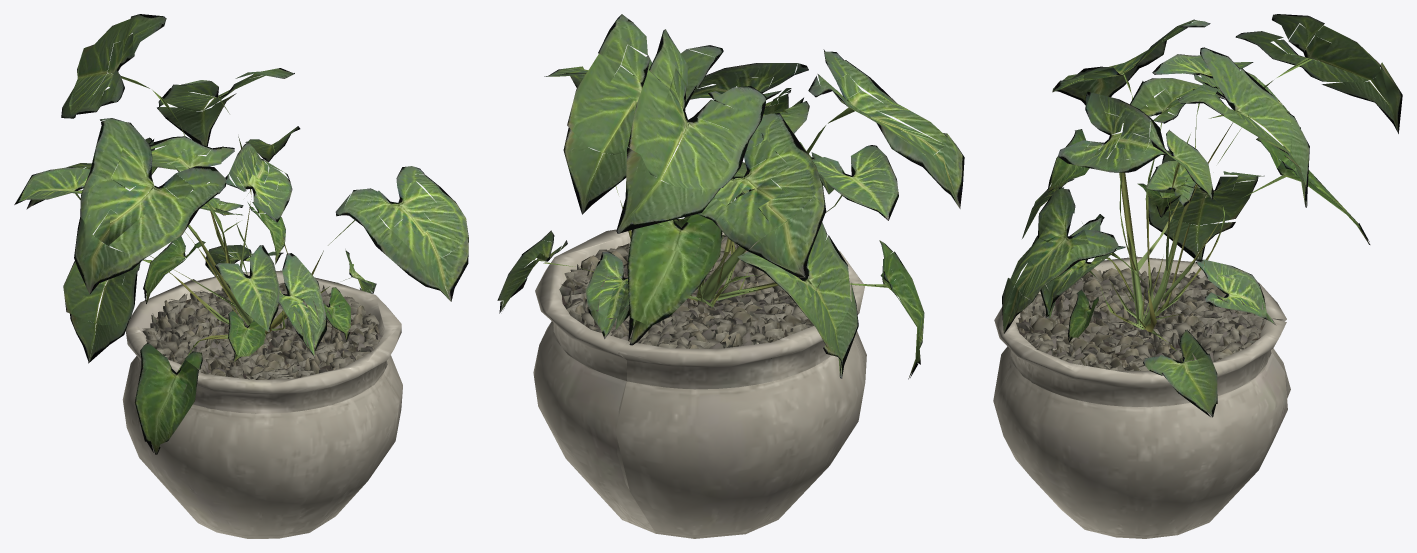
Rendered from floor-plant.glb.
3 views of the same model, side by side, from view 1: azimuth 30°, elevation 25°; view 2: azimuth 150°, elevation 25°; view 3: azimuth 270°, elevation 25° (orthographic). The views are drawn at different scales.
Visible parts, largest first — view 1: potted_plant_02_leaves, potted_plant_02_pot, potted_plant_02_dirt; view 2: potted_plant_02_leaves, potted_plant_02_pot, potted_plant_02_dirt; view 3: potted_plant_02_leaves, potted_plant_02_pot, potted_plant_02_dirt.
Boxes of the visible parts, left/top/right/bottom form: potted_plant_02_leaves: left=14, top=14, right=468, bottom=454; potted_plant_02_pot: left=122, top=270, right=402, bottom=538; potted_plant_02_dirt: left=142, top=283, right=382, bottom=379; potted_plant_02_leaves: left=497, top=14, right=964, bottom=379; potted_plant_02_pot: left=533, top=224, right=866, bottom=538; potted_plant_02_dirt: left=559, top=235, right=825, bottom=358; potted_plant_02_leaves: left=1002, top=14, right=1402, bottom=417; potted_plant_02_pot: left=993, top=256, right=1290, bottom=538; potted_plant_02_dirt: left=1016, top=267, right=1266, bottom=370.
Bounding box in the file's own units: 0.7009 × 0.8419 × 0.6578.
2 materials, 2 textured.
